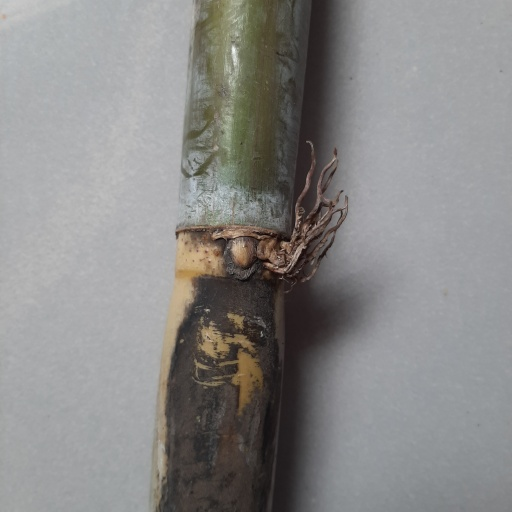Bud: (226, 236, 256, 270)
